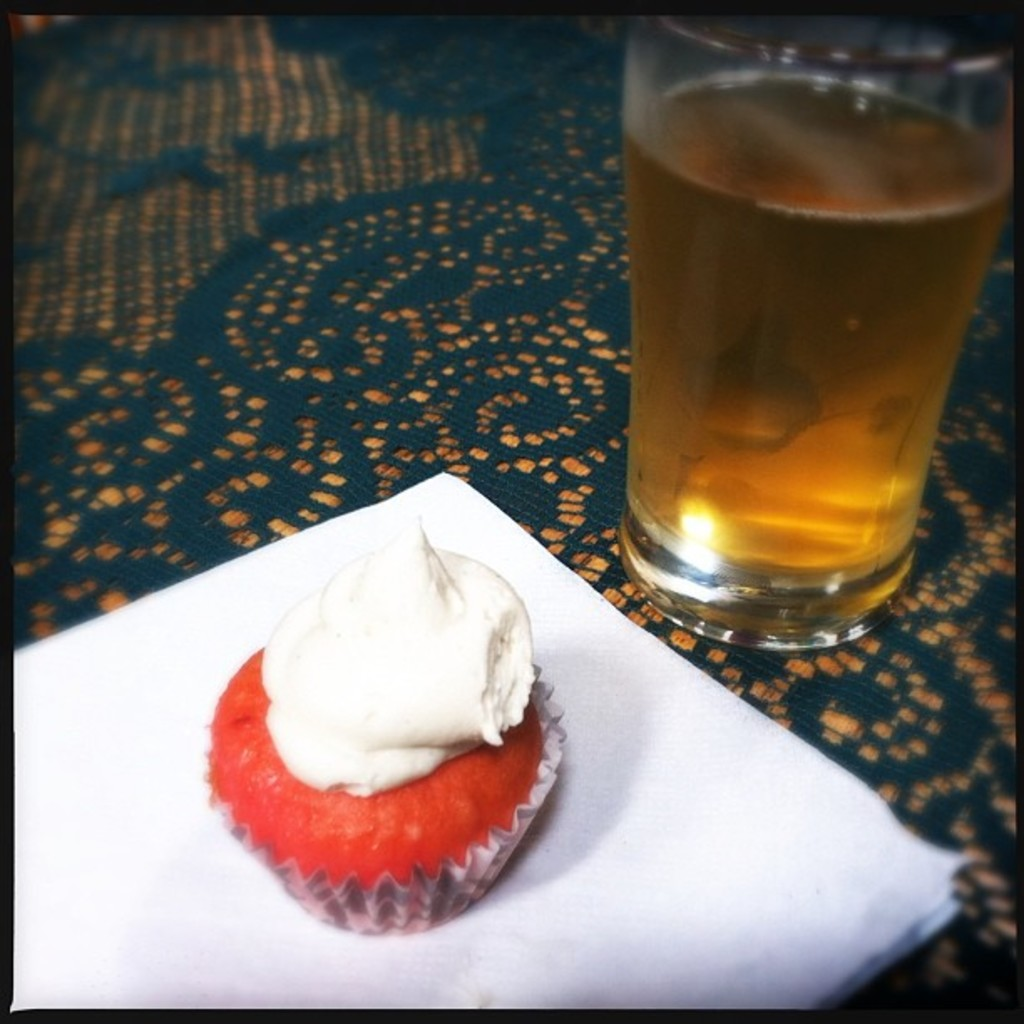Beer: (627, 70, 1022, 592)
